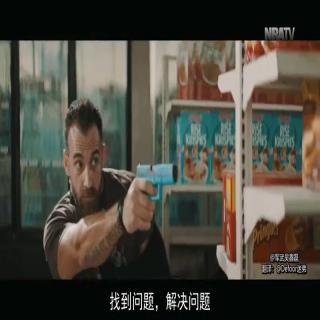gun: (121, 154, 182, 228)
